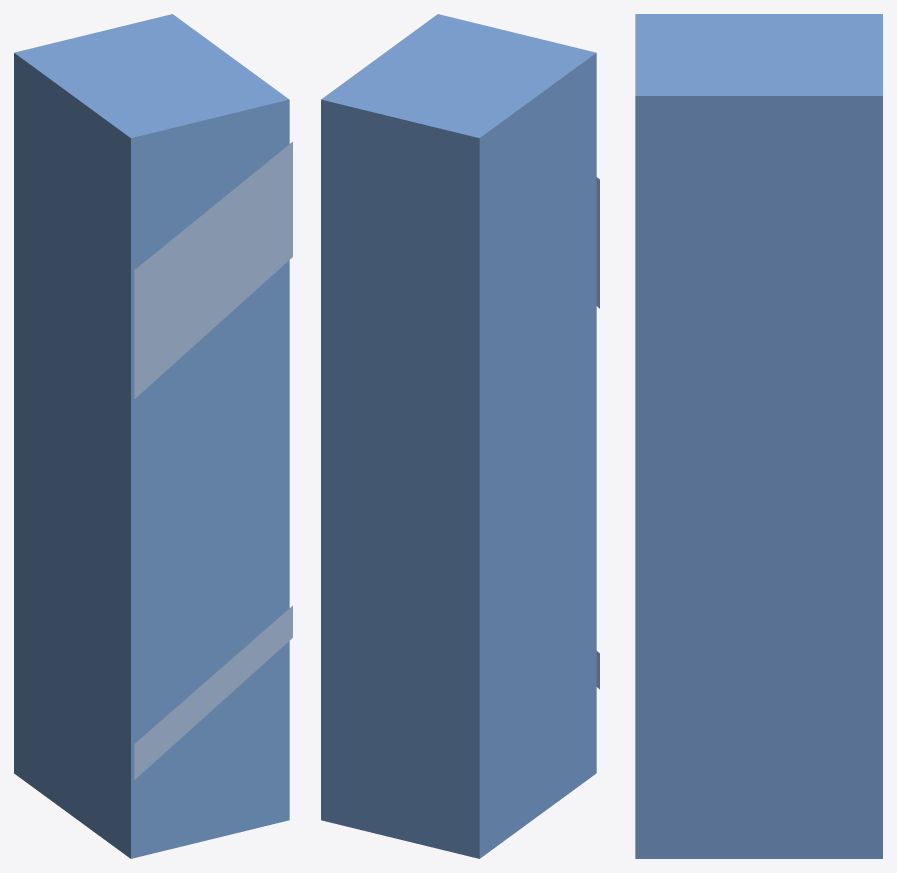
The model's file is Metall.fbx.
3 views of the same model, side by side, from view 1: azimuth 30°, elevation 25°; view 2: azimuth 150°, elevation 25°; view 3: azimuth 270°, elevation 25° (orthographic). The views are drawn at different scales.
Visible parts, largest first — view 1: Cube.024; view 2: Cube.024; view 3: Cube.024.
Part boxes in pixels (<box>): Cube.024: <box>14,14,292,858</box>; Cube.024: <box>321,14,599,858</box>; Cube.024: <box>635,14,882,858</box>.
Bounding box in the file's own units: 27.31 × 119 × 35.89.
